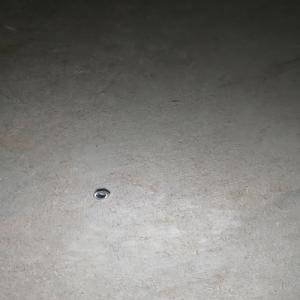Nut: (92, 189, 110, 199)
